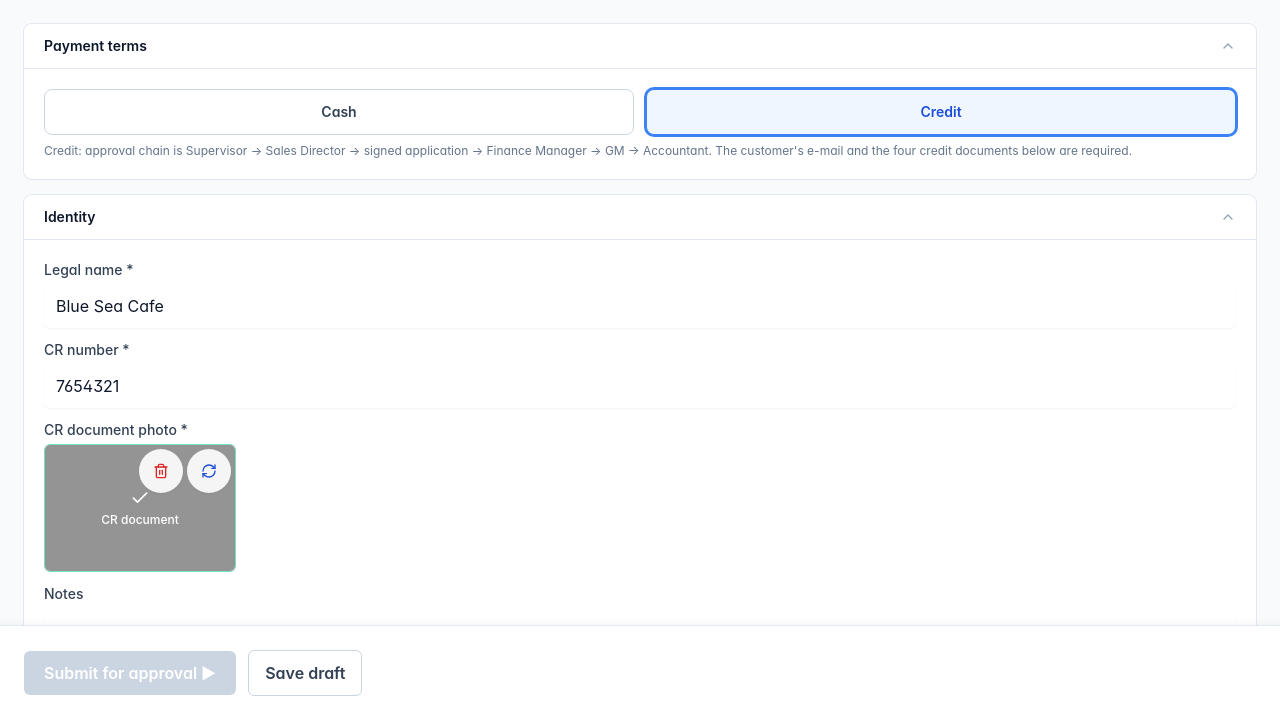
Test case: the credit choice › states the chain with the Sales Director and the signed application; cash keeps its two steps
This screenshot has width=1280, height=720.
Check: the text "Credit: approval chain is Supervisor → Sales Director → signed application → Finance Manager → GM → Accountant. The cust" is shown, box [44, 143, 1132, 158]
Step 1. Click the radio button labelled "Cash" → click(339, 112), box [44, 89, 634, 135]
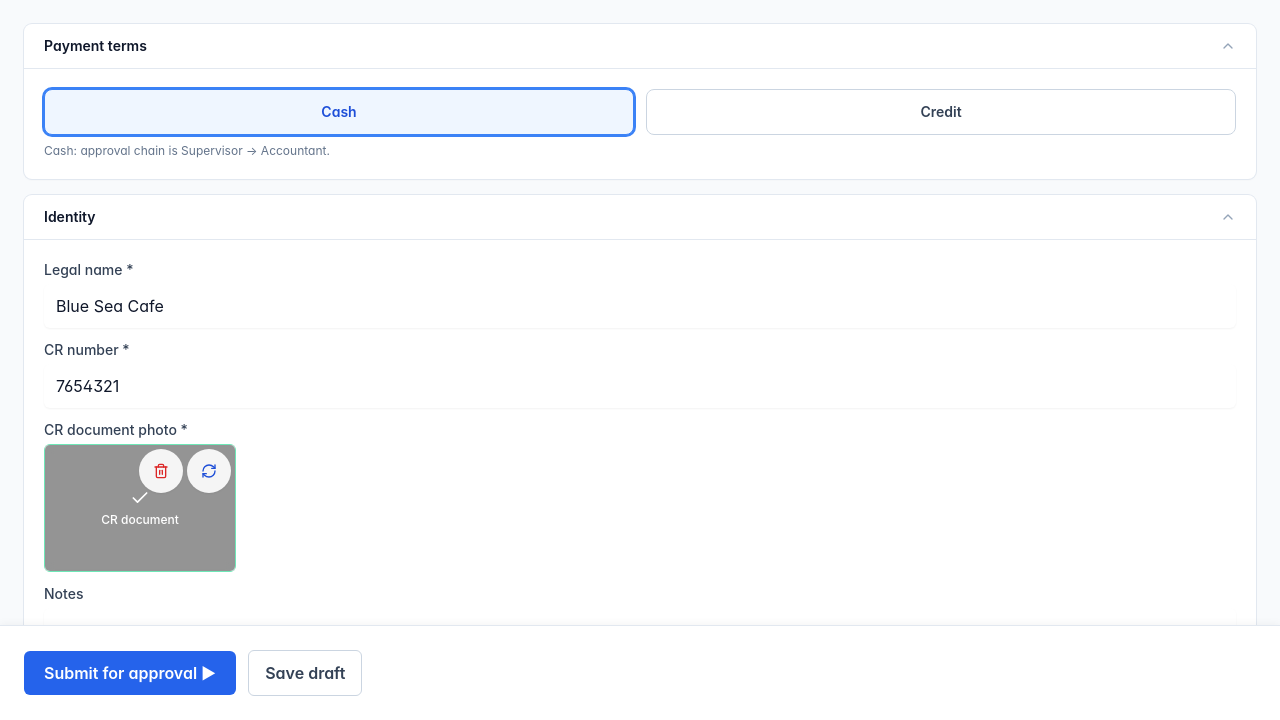
Check: the text "Cash: approval chain is Supervisor → Accountant." is shown, box [44, 143, 330, 158]
